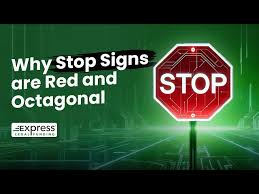stop sign: (153, 42, 233, 121)
